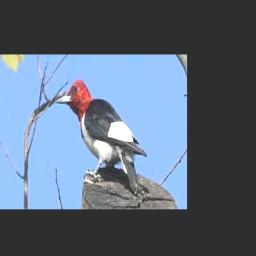Woodpecker: (55, 79, 146, 194)
